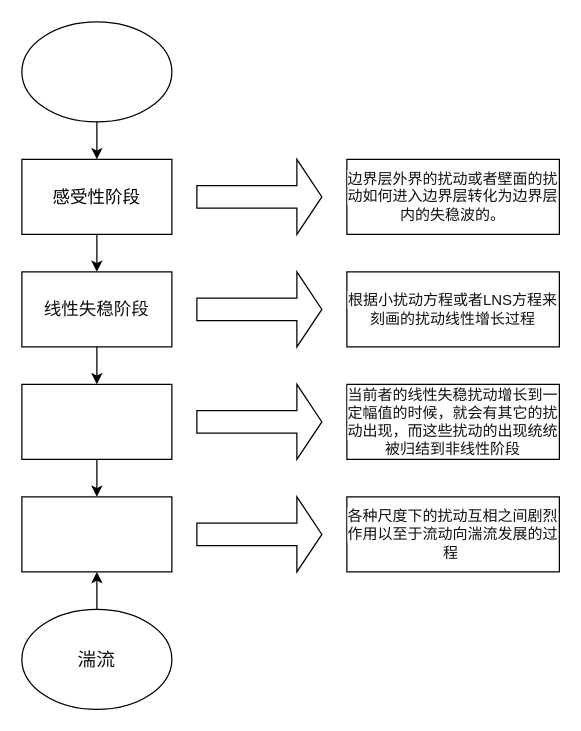
Some shapes in this 581 by 731 pixel diagram are drawn without their labels. Each missing label, with the centre of its shape:
breakdown: the point at 96,534
开始: the point at 96,71
非线性增长阶段: the point at 96,421
